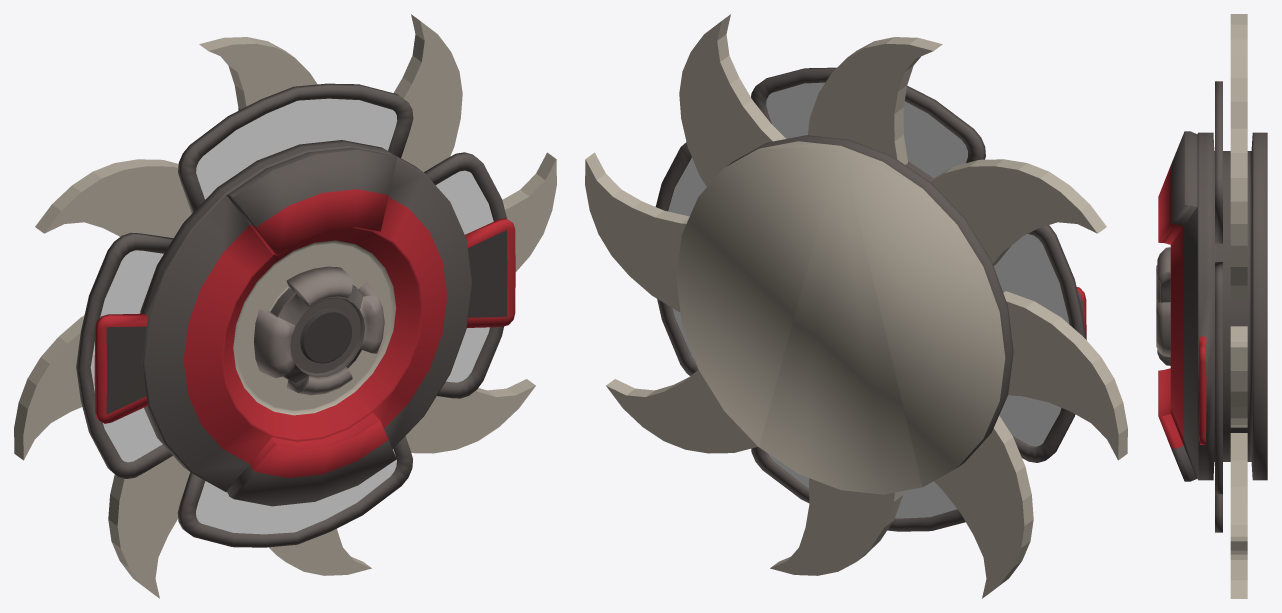
File: Saw_7.fbx
3 renders of one model, left to right at view 1: azimuth 30°, elevation 25°; view 2: azimuth 150°, elevation 25°; view 3: azimuth 270°, elevation 25°, orthographic. The views are drawn at different scales.
Visible parts, largest first — view 1: Cylinder.020, Cylinder.023, Cylinder.021, Cylinder.018, Cylinder.022, Cylinder.019, Cylinder.039, Cylinder.017, Cylinder.038; view 2: Cylinder.020, Cylinder.019, Cylinder.023, Cylinder.039, Cylinder.021, Cylinder.018, Cylinder.017, Cylinder.038, Cylinder.022; view 3: Cylinder.020, Cylinder.018, Cylinder.022, Cylinder.039, Cylinder.017, Cylinder.038.
Boxes of the visible parts, x1=… form: Cylinder.020: x1=76, y1=83, x2=515, y2=547; Cylinder.023: x1=35, y1=159, x2=191, y2=238; Cylinder.021: x1=108, y1=456, x2=190, y2=598; Cylinder.018: x1=394, y1=14, x2=462, y2=172; Cylinder.022: x1=405, y1=379, x2=535, y2=453; Cylinder.019: x1=14, y1=315, x2=84, y2=460; Cylinder.039: x1=199, y1=37, x2=317, y2=110; Cylinder.017: x1=502, y1=152, x2=556, y2=271; Cylinder.038: x1=269, y1=528, x2=371, y2=575; Cylinder.020: x1=655, y1=67, x2=1086, y2=531; Cylinder.019: x1=1003, y1=291, x2=1127, y2=460; Cylinder.023: x1=929, y1=159, x2=1106, y2=265; Cylinder.039: x1=808, y1=37, x2=942, y2=164; Cylinder.021: x1=934, y1=415, x2=1033, y2=598; Cylinder.018: x1=679, y1=14, x2=785, y2=186; Cylinder.017: x1=585, y1=152, x2=689, y2=311; Cylinder.038: x1=770, y1=478, x2=903, y2=575; Cylinder.022: x1=606, y1=370, x2=757, y2=453; Cylinder.020: x1=1156, y1=81, x2=1267, y2=532; Cylinder.018: x1=1230, y1=128, x2=1247, y2=299; Cylinder.022: x1=1230, y1=433, x2=1247, y2=554; Cylinder.039: x1=1230, y1=14, x2=1247, y2=128; Cylinder.017: x1=1230, y1=326, x2=1247, y2=427; Cylinder.038: x1=1230, y1=554, x2=1247, y2=598.
Size of the model in its own units: 0.4865 by 0.4864 by 0.0961.
Materials: 2 (1 with a texture image).
